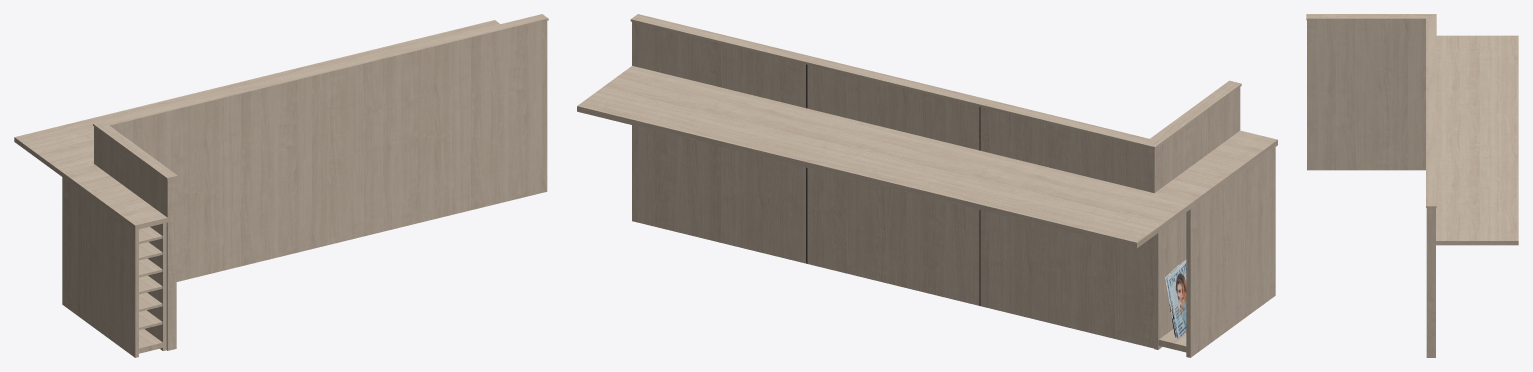
The model's file is carbinet fix.fbx.
3 renders of one model, left to right at view 1: azimuth 30°, elevation 25°; view 2: azimuth 150°, elevation 25°; view 3: azimuth 270°, elevation 25°, orthographic. The views are drawn at different scales.
Visible parts, largest first — view 1: Object606066, Object606524, Object606525; view 2: Object606066, Object606524, Object606526, INDUSTRIAL_IRON_RACK_245, Object606525; view 3: Object606066, Object606524, Object606525.
Part boxes in pixels (bbox=[...]): Object606066: bbox=[14, 14, 548, 357]; Object606524: bbox=[94, 14, 547, 125]; Object606525: bbox=[93, 123, 177, 177]; Object606066: bbox=[577, 14, 1277, 357]; Object606524: bbox=[631, 14, 1154, 146]; Object606526: bbox=[630, 19, 1154, 149]; INDUSTRIAL_IRON_RACK_245: bbox=[1167, 260, 1186, 338]; Object606525: bbox=[1150, 81, 1240, 146]; Object606066: bbox=[1306, 14, 1518, 357]; Object606524: bbox=[1426, 14, 1436, 205]; Object606525: bbox=[1306, 14, 1435, 18].
Bounding box in the file's own units: 2644 × 910 × 1154.
6 materials, 5 textured.
